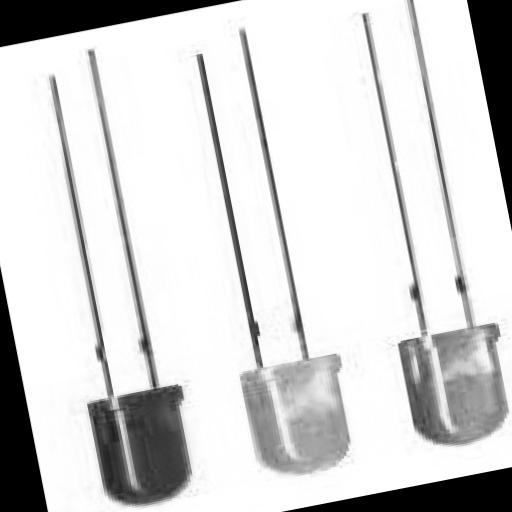LED: (172, 6, 390, 486), (3, 53, 225, 512), (319, 0, 512, 476)
